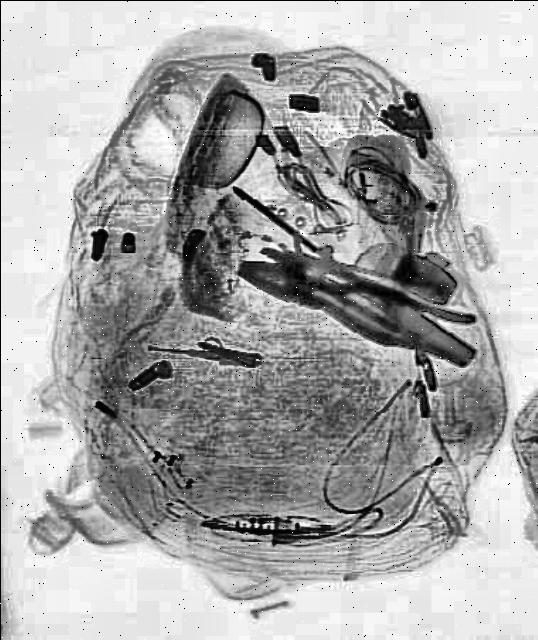Pliers: (228, 234, 476, 370)
